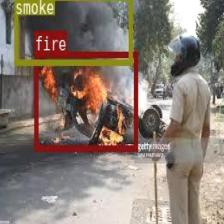fire: (34, 52, 136, 150)
smoke: (14, 0, 131, 64)
